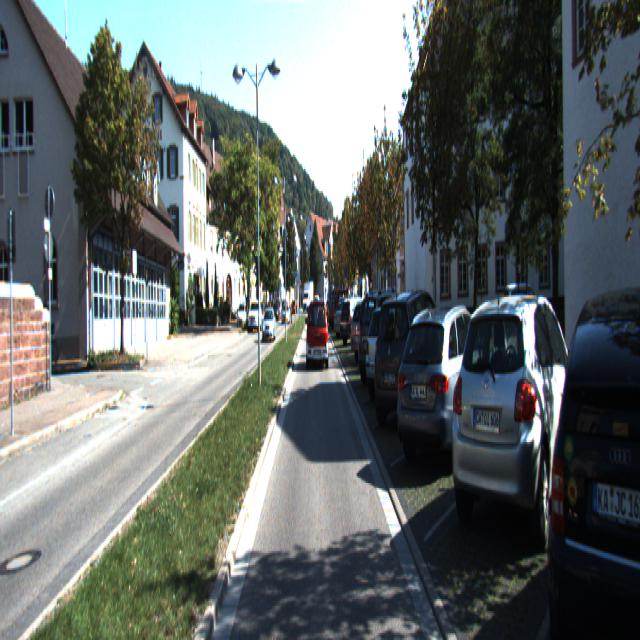Car: (448, 292, 590, 563), (545, 275, 640, 638), (393, 300, 498, 473), (371, 290, 452, 434), (363, 297, 436, 403), (354, 291, 418, 387), (349, 298, 399, 361), (339, 297, 376, 345), (307, 300, 329, 370), (332, 299, 363, 336), (328, 289, 354, 329), (262, 309, 276, 343), (248, 299, 262, 332), (237, 303, 246, 327)
